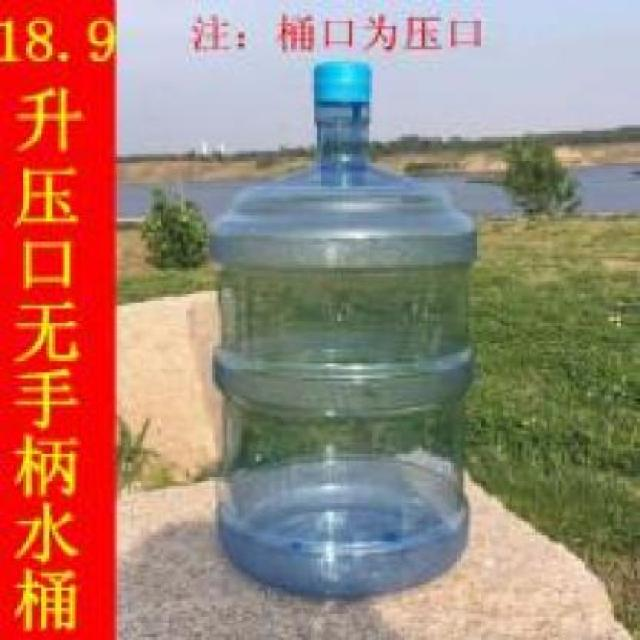coolerbottle: (200, 55, 483, 602)
